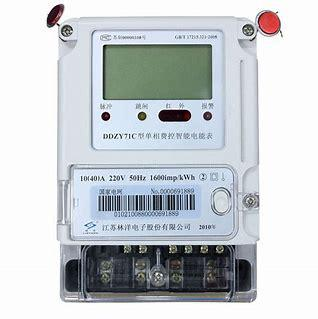digital: (57, 20, 258, 245)
